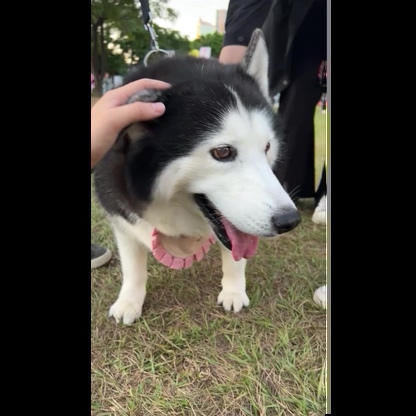husky: (99, 26, 306, 330)
